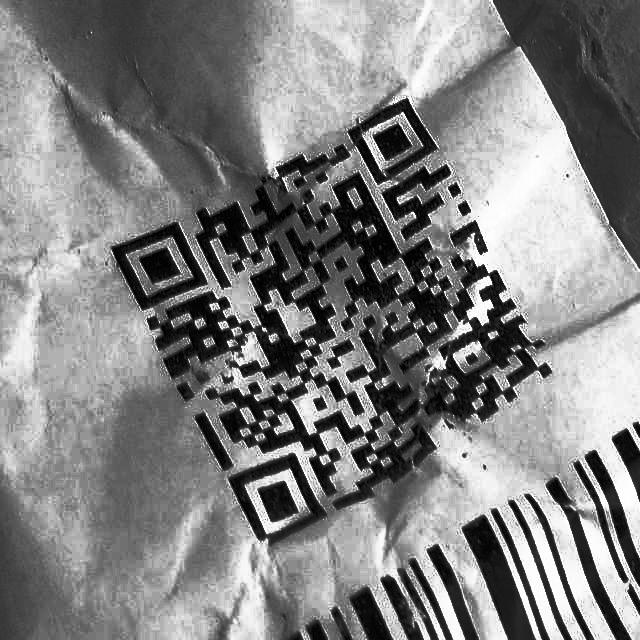qr_code: (98, 92, 561, 551)
